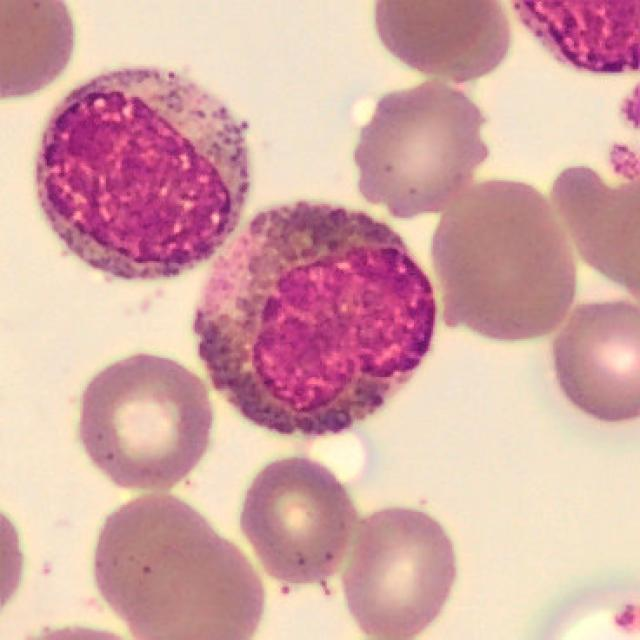Metamielocito: (193, 201, 438, 439)
Mielocito: (35, 69, 252, 280)
